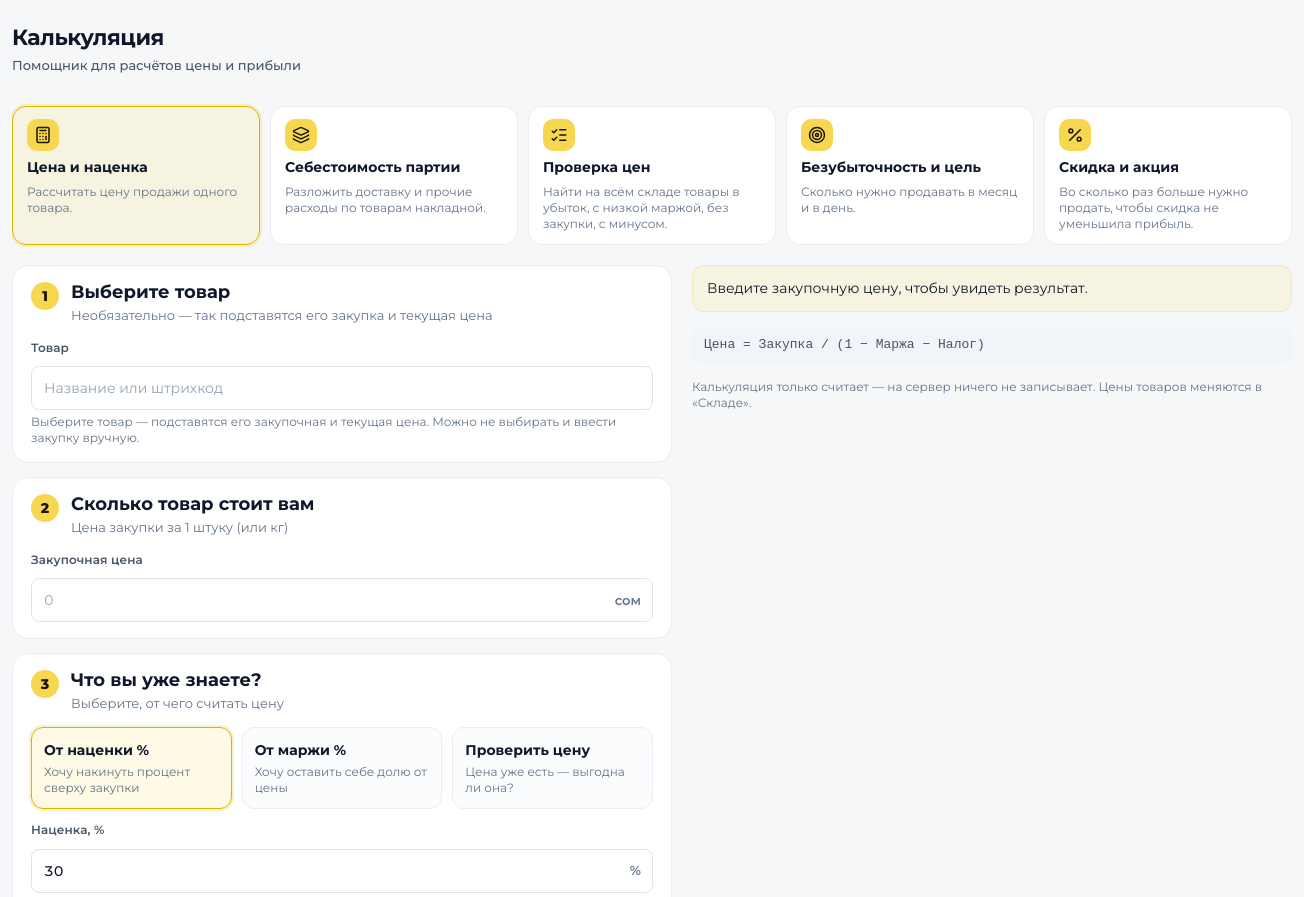
Test case: Калькуляция › цена от наценки: 35 сом + 30 % = 45,50
Type "35" into the field labelled "Закупочная цена" at (342, 600), box [31, 578, 653, 622]
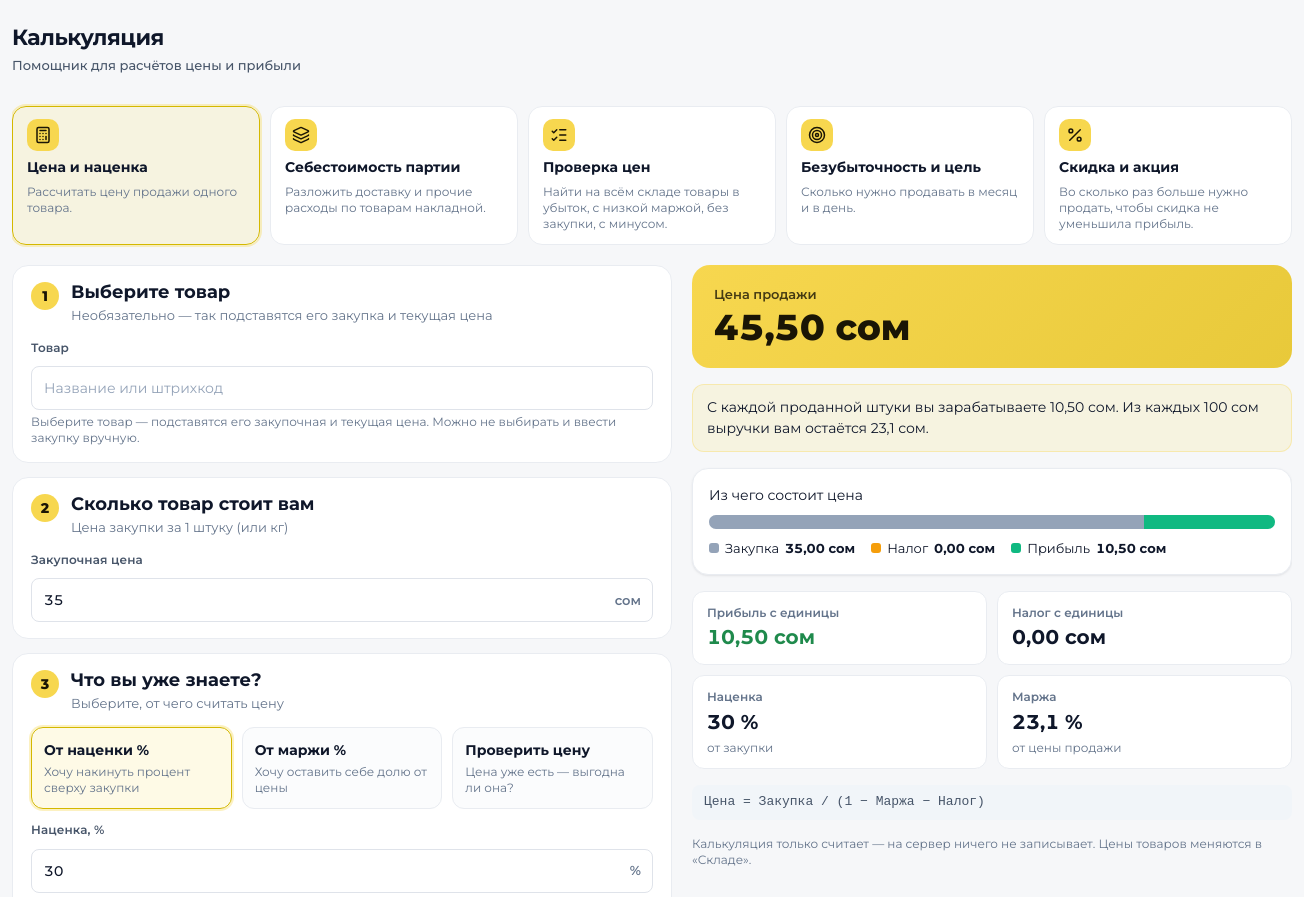
Result: the text "45,50 сом" is shown at [714, 305, 911, 349]
